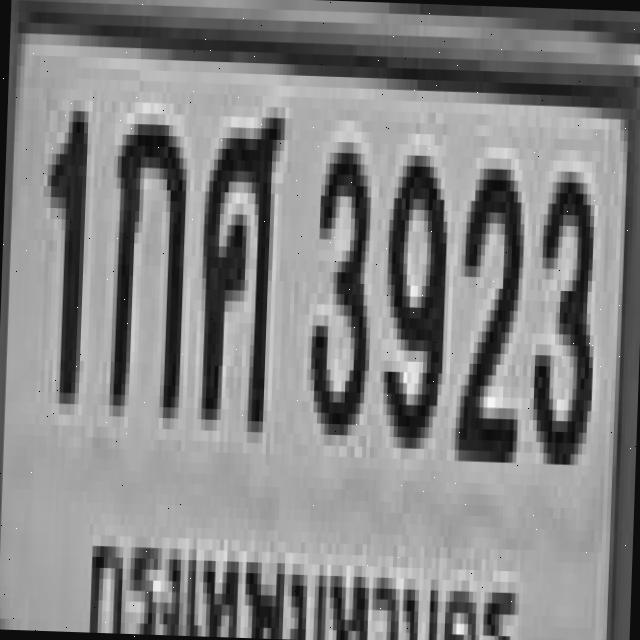1: (40, 99, 85, 393)
10GorGai: (104, 112, 184, 408)
2: (450, 157, 522, 452)
3: (528, 160, 596, 454), (305, 130, 369, 424)
47SorSala: (193, 99, 281, 416)
9: (378, 143, 446, 438)
